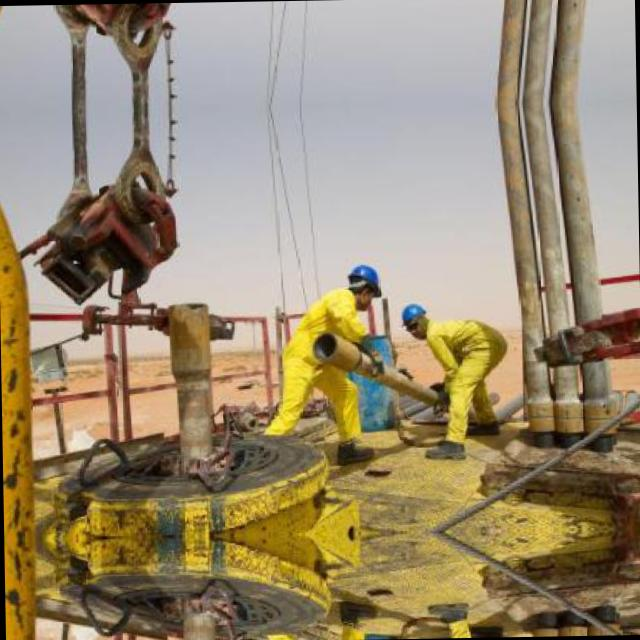helmet: (344, 260, 382, 310), (398, 299, 428, 338)
